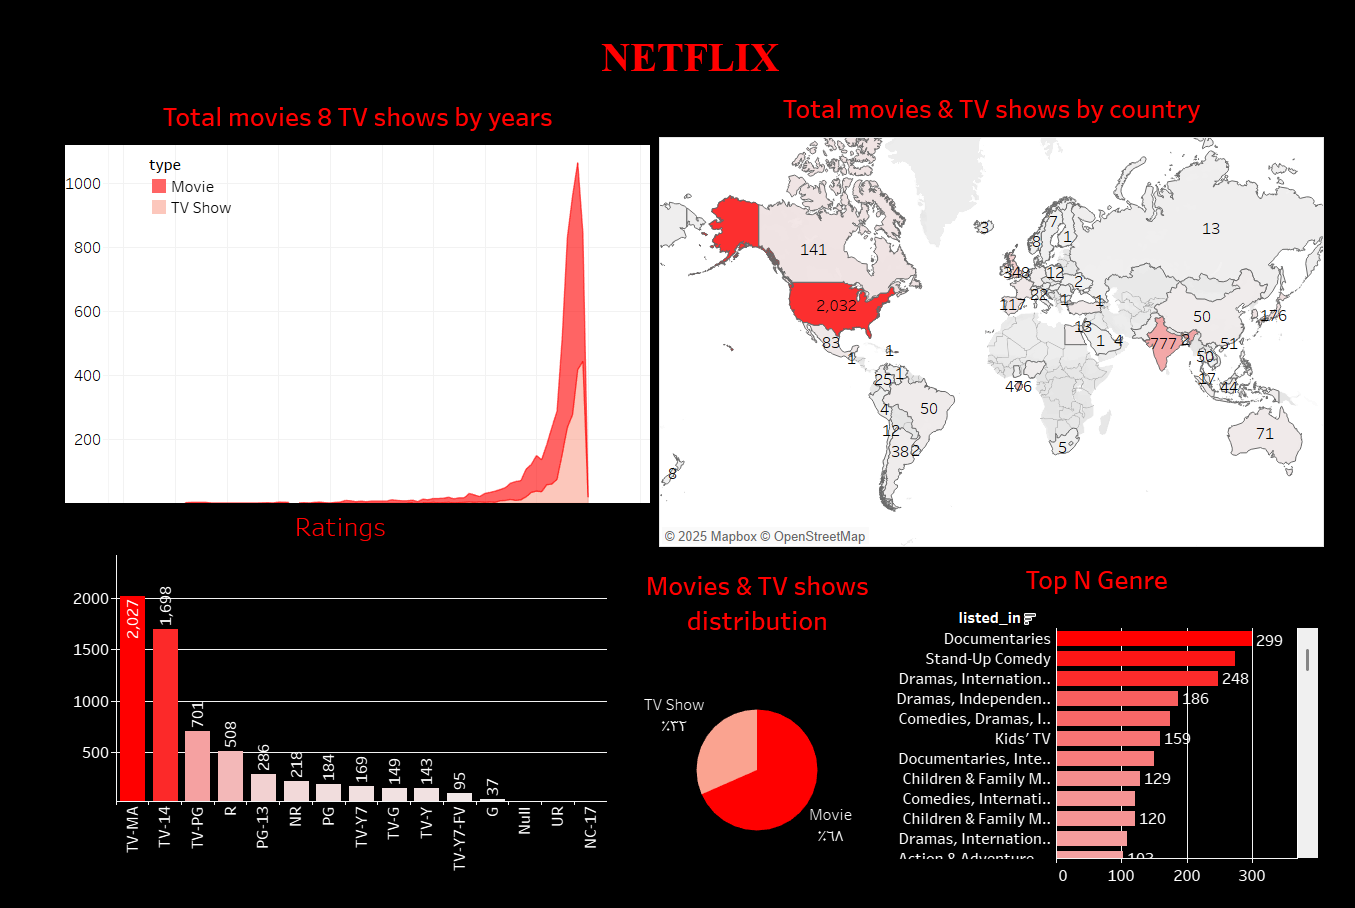

This screenshot's page, from the dashboard's own definition file:
{"tool":"tableau","page":{"name":"Dashboard 1","canvas":[1000,1000],"units":"permille","ordinal":0},"visuals":[{"type":"text","box":[6.2,10,987.7,980]},{"type":"text","box":[397.7,42.4,203.1,42.4]},{"type":"worksheet","title":"Total movies & TV shows by country","mark":"Automatic","box":[475.4,96,511.5,511.2]},{"type":"worksheet","title":"Sheet 5","mark":"Area","rows":["show_id"],"cols":["release_year"],"box":[18.5,104.7,450,453.9]},{"type":"legend","title":"Sheet 5","param":"[federated.028z26313rpopl1924dkf1mxc3tr].[none:type:nk]","box":[83.1,169.6,107.7,79.8]},{"type":"worksheet","title":"Ratings","mark":"Automatic","rows":["show_id"],"cols":["rating"],"box":[24.6,559.9,410.8,417.7]},{"type":"worksheet","title":"Top N Genre","mark":"Automatic","rows":["listed_in"],"cols":["show_id"],"box":[657.7,618.5,324.6,366.6]},{"type":"worksheet","title":"TV vs Movie","mark":"Pie","box":[438.5,625.9,224.6,362.8]}]}

Visuals, with their boxes on the dashboard's canvas, which has no fixed pixel size, in thousandths of its width and height (x1, y1, x2, y2). These are canvas units, not pixel positions in the 1355x908 screenshot, which may show the page scaled, cropped or inside an application window:
text: (6, 10, 994, 990)
text: (398, 42, 601, 85)
"Total movies & TV shows by country" worksheet: (475, 96, 987, 607)
"Sheet 5" worksheet (Area marks): (18, 105, 468, 559)
"Sheet 5" legend: (83, 170, 191, 249)
"Ratings" worksheet: (25, 560, 435, 978)
"Top N Genre" worksheet: (658, 618, 982, 985)
"TV vs Movie" worksheet (Pie marks): (438, 626, 663, 989)
